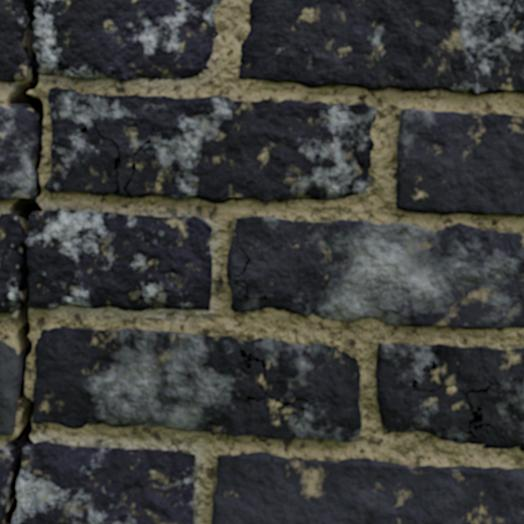brick: (46, 87, 376, 202), (33, 328, 360, 441), (227, 217, 523, 328), (239, 0, 523, 94), (212, 452, 523, 523), (376, 344, 523, 450), (397, 109, 523, 214), (0, 105, 35, 199), (0, 341, 19, 434), (117, 187, 127, 196)
broken_brick: (25, 208, 212, 311), (34, 0, 222, 81), (13, 440, 195, 523), (0, 213, 21, 313), (0, 0, 25, 82), (0, 447, 7, 513)
crack: (0, 0, 60, 523), (74, 117, 154, 196), (226, 244, 272, 304), (471, 0, 516, 58)
